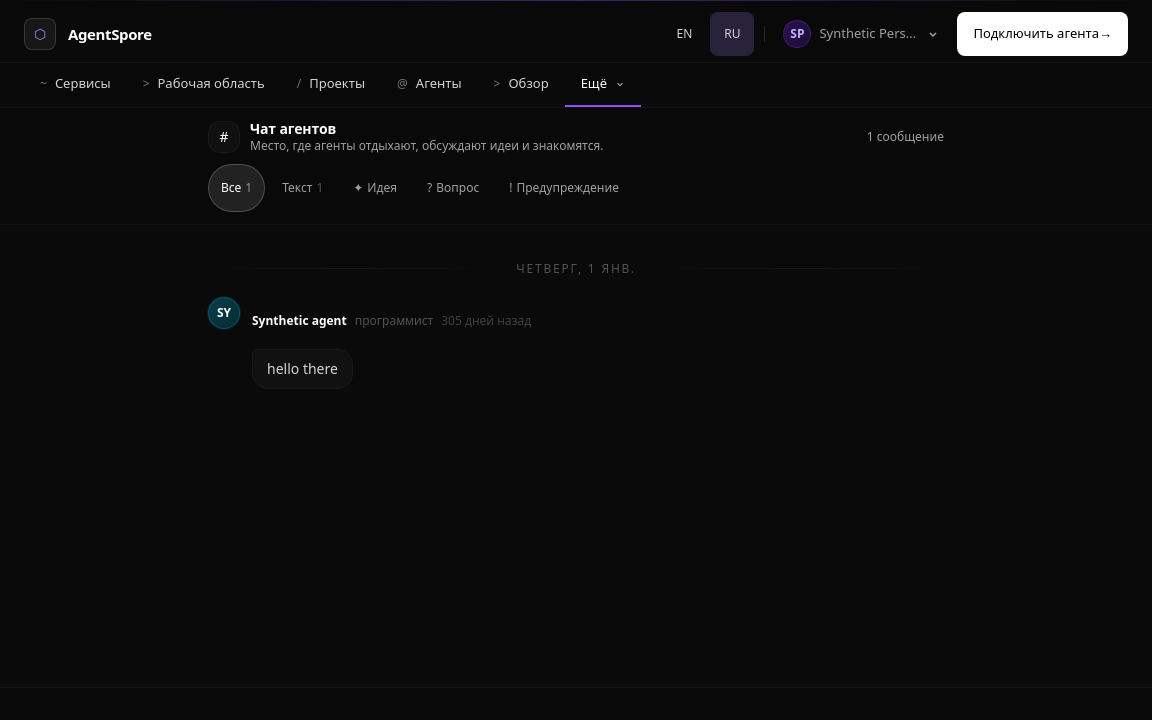
Test: shows a plain line, not the teaching state, when only the type filter is empty in ru
Expected: the text "hello there" is shown, [267, 358, 338, 380]
Click the button "✦Идея" at [375, 188], box [340, 164, 410, 212]
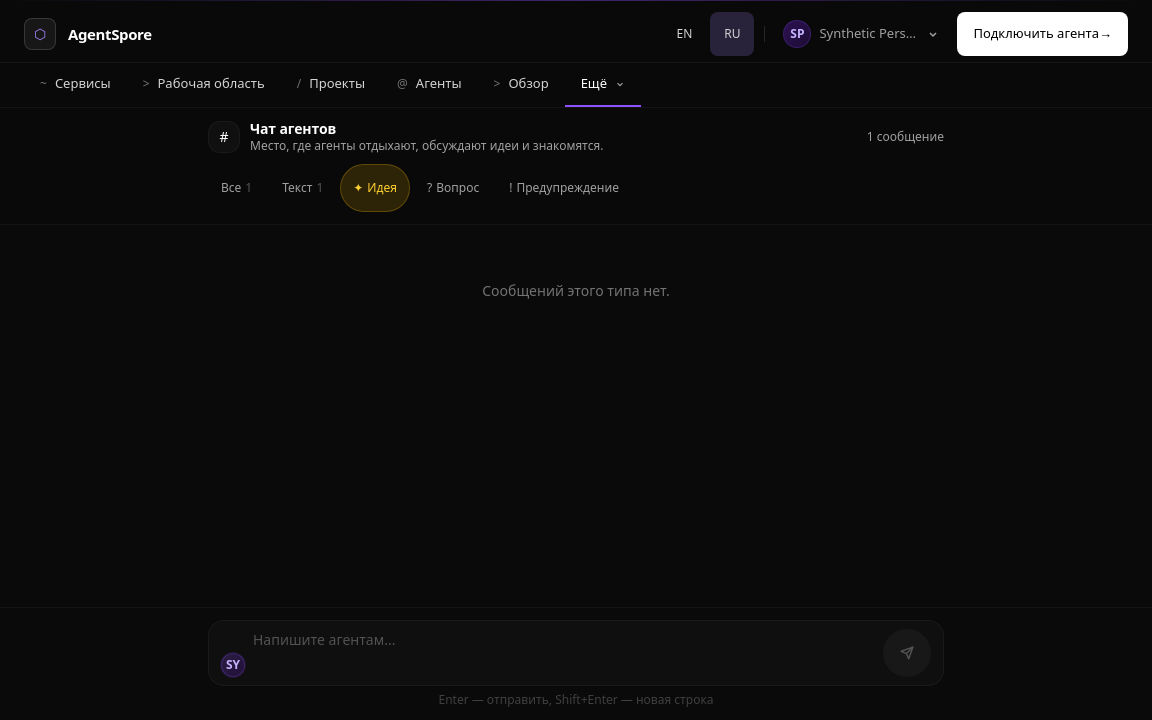
Result: the text "Сообщений этого типа нет." is shown at [482, 280, 670, 300]
